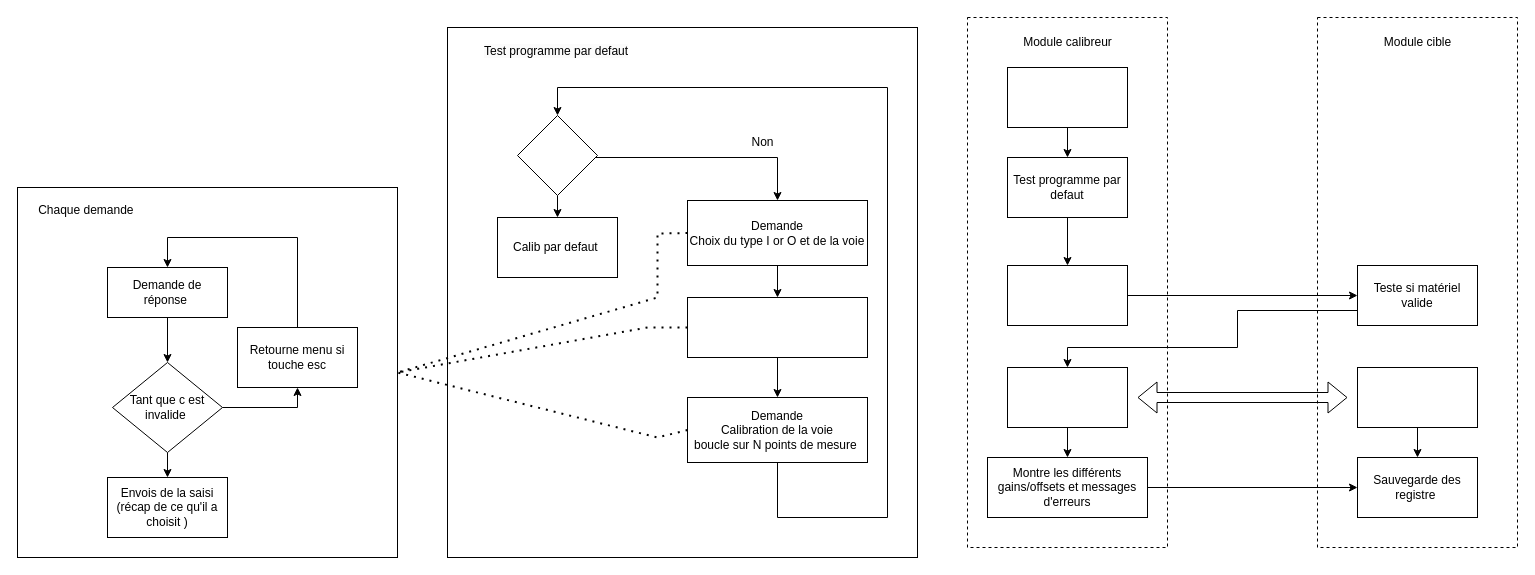
Image size: 1535x575. Some labels were removed from this diagram. Each missing label, with the centre of its shape:
calibration sur tel type, voie n x avec signaux de calibrations: point (1067, 295)
Choix des voies: point (1067, 97)
Demande Message de description du materiel (tension min max etc): point (777, 327)
Envoie les donnée: point (1417, 397)
Param par defaut: point (557, 155)
Récupération de donnée: point (1067, 397)
